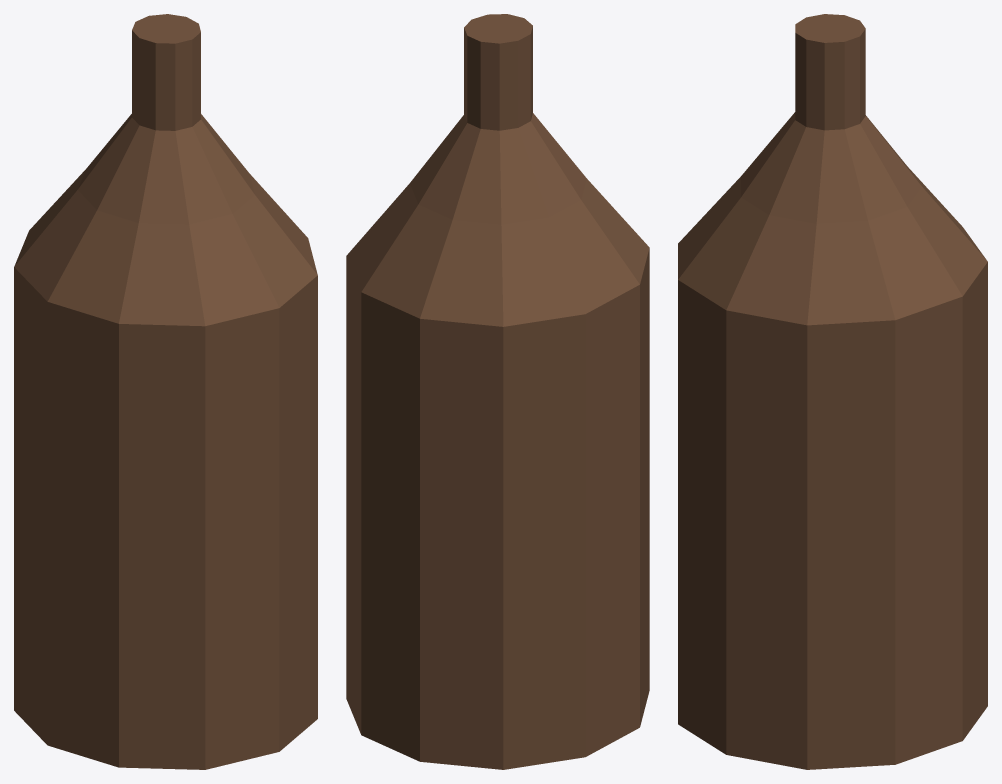
The model's file is Bottle.fbx.
3 views of the same model, side by side, from view 1: azimuth 30°, elevation 25°; view 2: azimuth 150°, elevation 25°; view 3: azimuth 270°, elevation 25° (orthographic).
Parts seen in each view (by area): view 1: Cylinder; view 2: Cylinder; view 3: Cylinder.
Part boxes in pixels (x1,y1,x2,y2): Cylinder: [14, 14, 317, 769]; Cylinder: [346, 14, 649, 769]; Cylinder: [678, 14, 987, 769].
Bounding box in the file's own units: 36 × 89.29 × 37.
